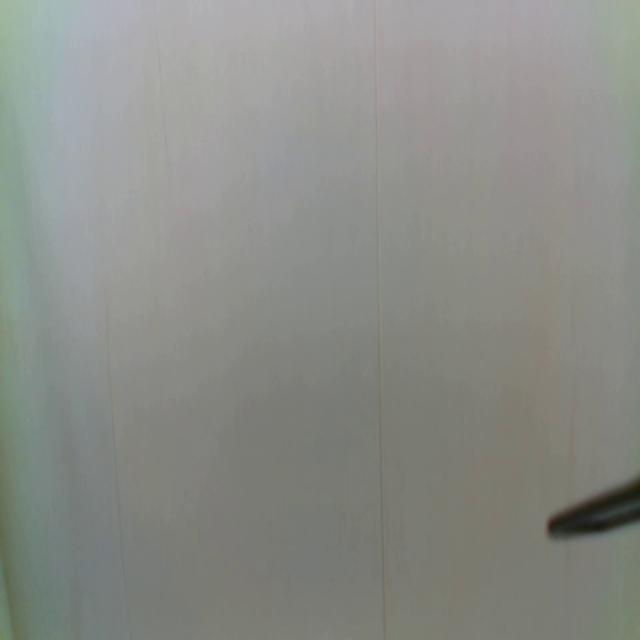crease: (373, 1, 388, 640), (104, 298, 130, 610), (152, 17, 172, 162)
